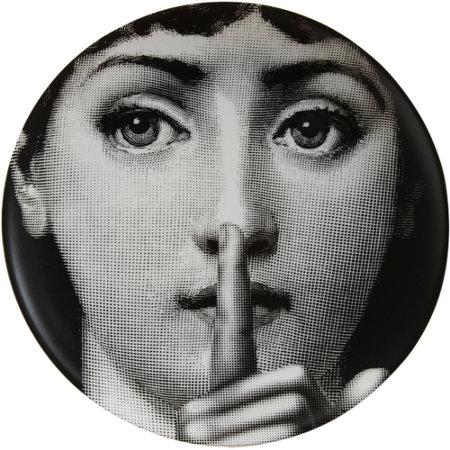person: (46, 11, 401, 440)
